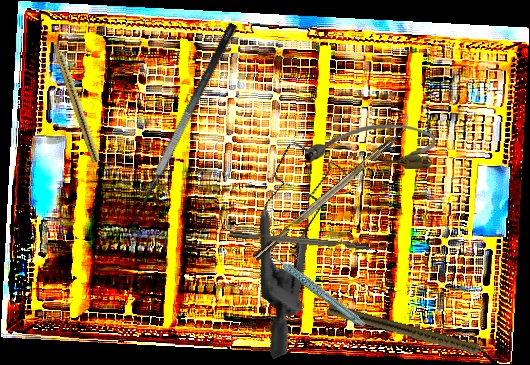Cannula: (305, 124, 435, 169)
Chopper: (245, 112, 419, 262), (229, 223, 389, 254)
Handpiece: (326, 303, 502, 364), (270, 234, 367, 343), (50, 37, 103, 164)
Spatula Surgical: (118, 21, 256, 243)
Speculum: (200, 128, 401, 360)
